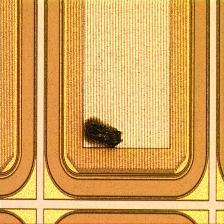PARTICLE: (82, 112, 126, 156)
